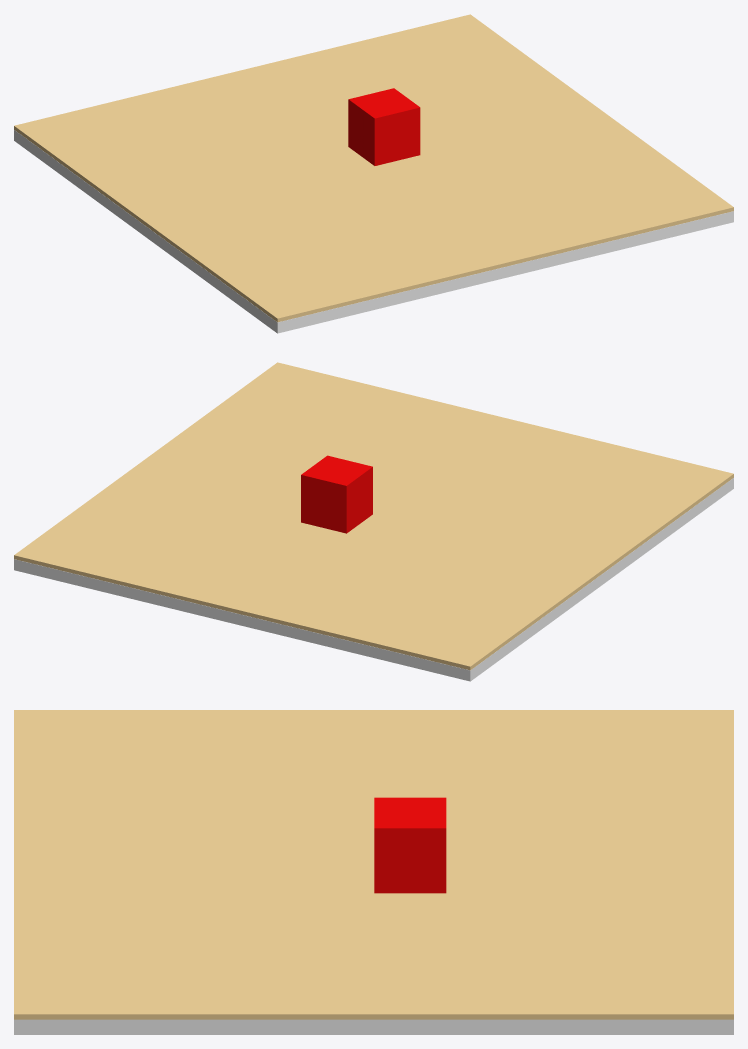
The model's file is name.gltf.
3 views of the same model, one above another, from view 1: azimuth 30°, elevation 25°; view 2: azimuth 150°, elevation 25°; view 3: azimuth 270°, elevation 25° (orthographic). The views are drawn at different scales.
Parts seen in each view (by area): view 1: 1, 2, 3; view 2: 1, 2, 3; view 3: 1, 2, 3.
Boxes of the visible parts, x1,y1,x2,y2 form: 1: (14,14,733,322); 2: (14,130,733,333); 3: (348,88,420,165); 1: (14,362,733,670); 2: (14,478,733,681); 3: (301,455,372,533); 1: (14,710,733,1019); 2: (14,1019,733,1034); 3: (374,797,446,893).
Size of the model in its own units: 20 by 2.62 by 20.
